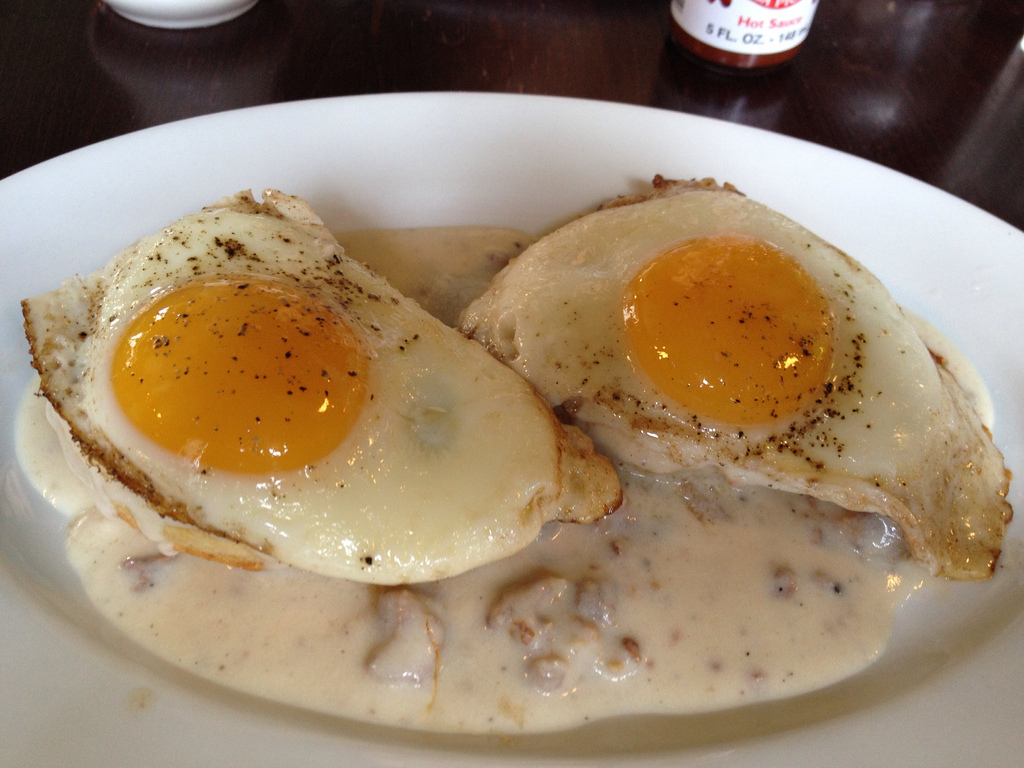fried egg: (50, 203, 533, 567), (493, 178, 991, 525)
